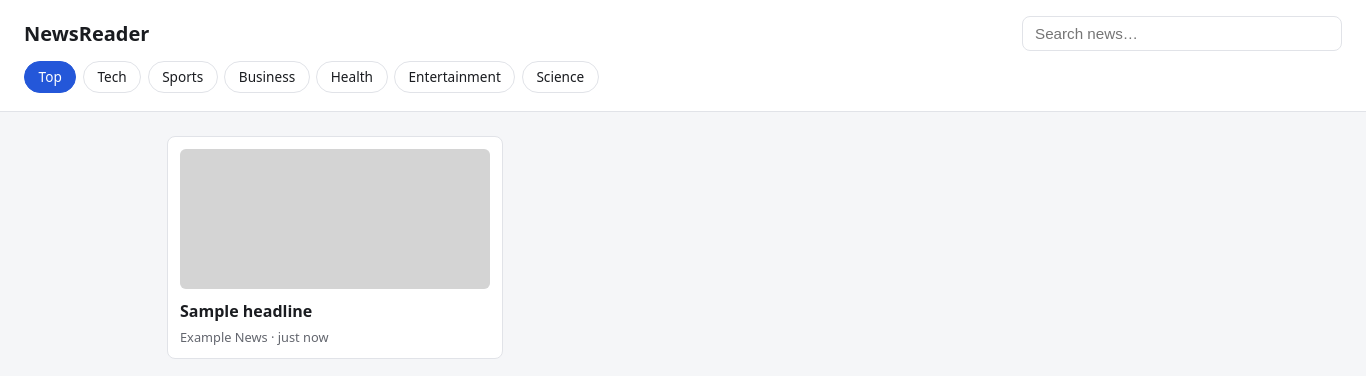
Test: App › switches to search mode and back to the category feed on clear
The image size is (1366, 376).
expect the heading "Sample headline" is shown: met, box 180,300 -> 312,322
Type "election" into the search field.
click(1182, 34); type("election")  # box 1022,16 -> 1342,51
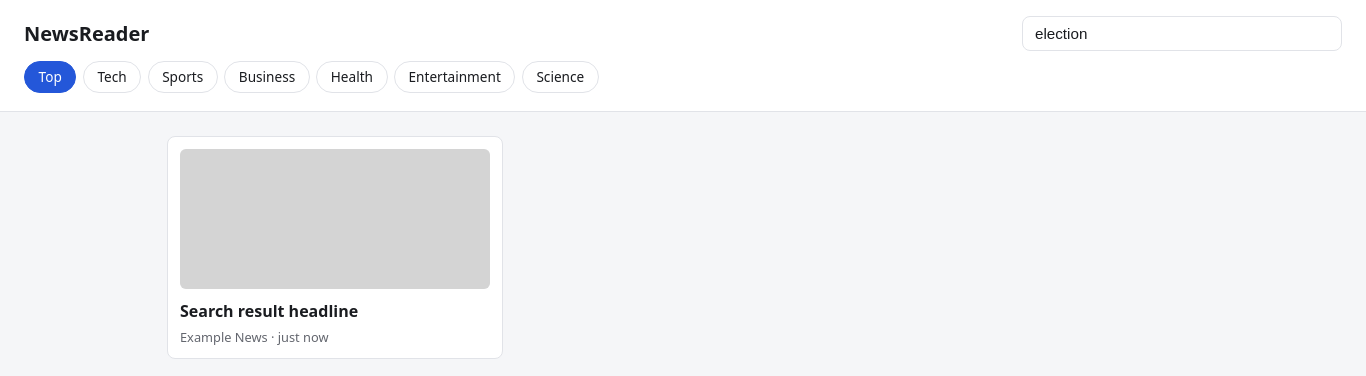
expect the heading "Search result headline" is shown: met, box 180,300 -> 358,322
Clear the search field at (1182, 34), box 1022,16 -> 1342,51
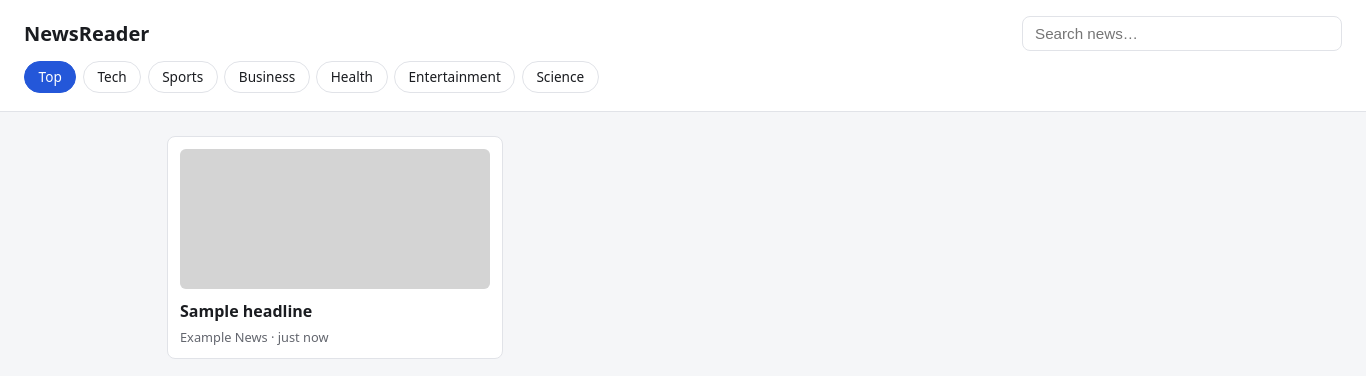
expect the heading "Sample headline" is shown: met, box 180,300 -> 312,322
